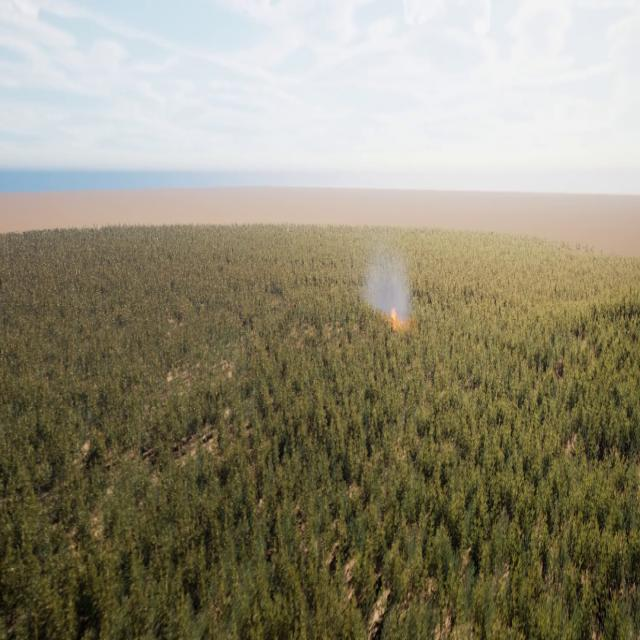fire: (390, 304, 411, 329)
smoke: (365, 242, 418, 333)
